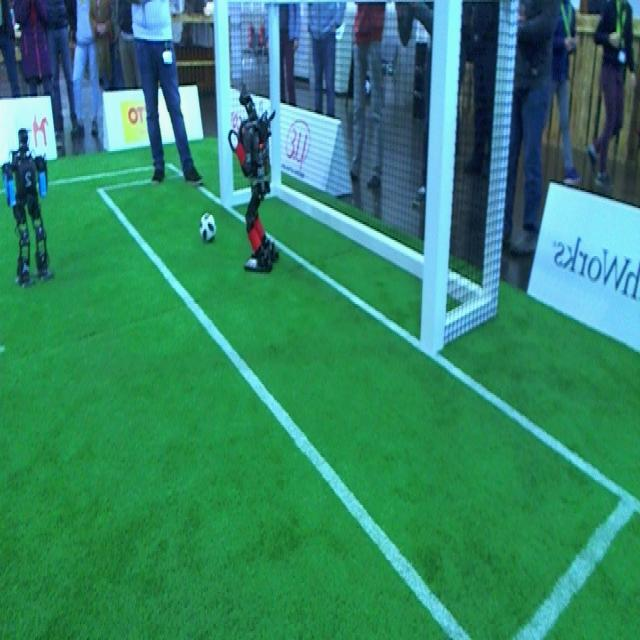ball: (198, 206, 219, 247)
goalpost: (419, 4, 464, 350), (213, 3, 237, 201)
